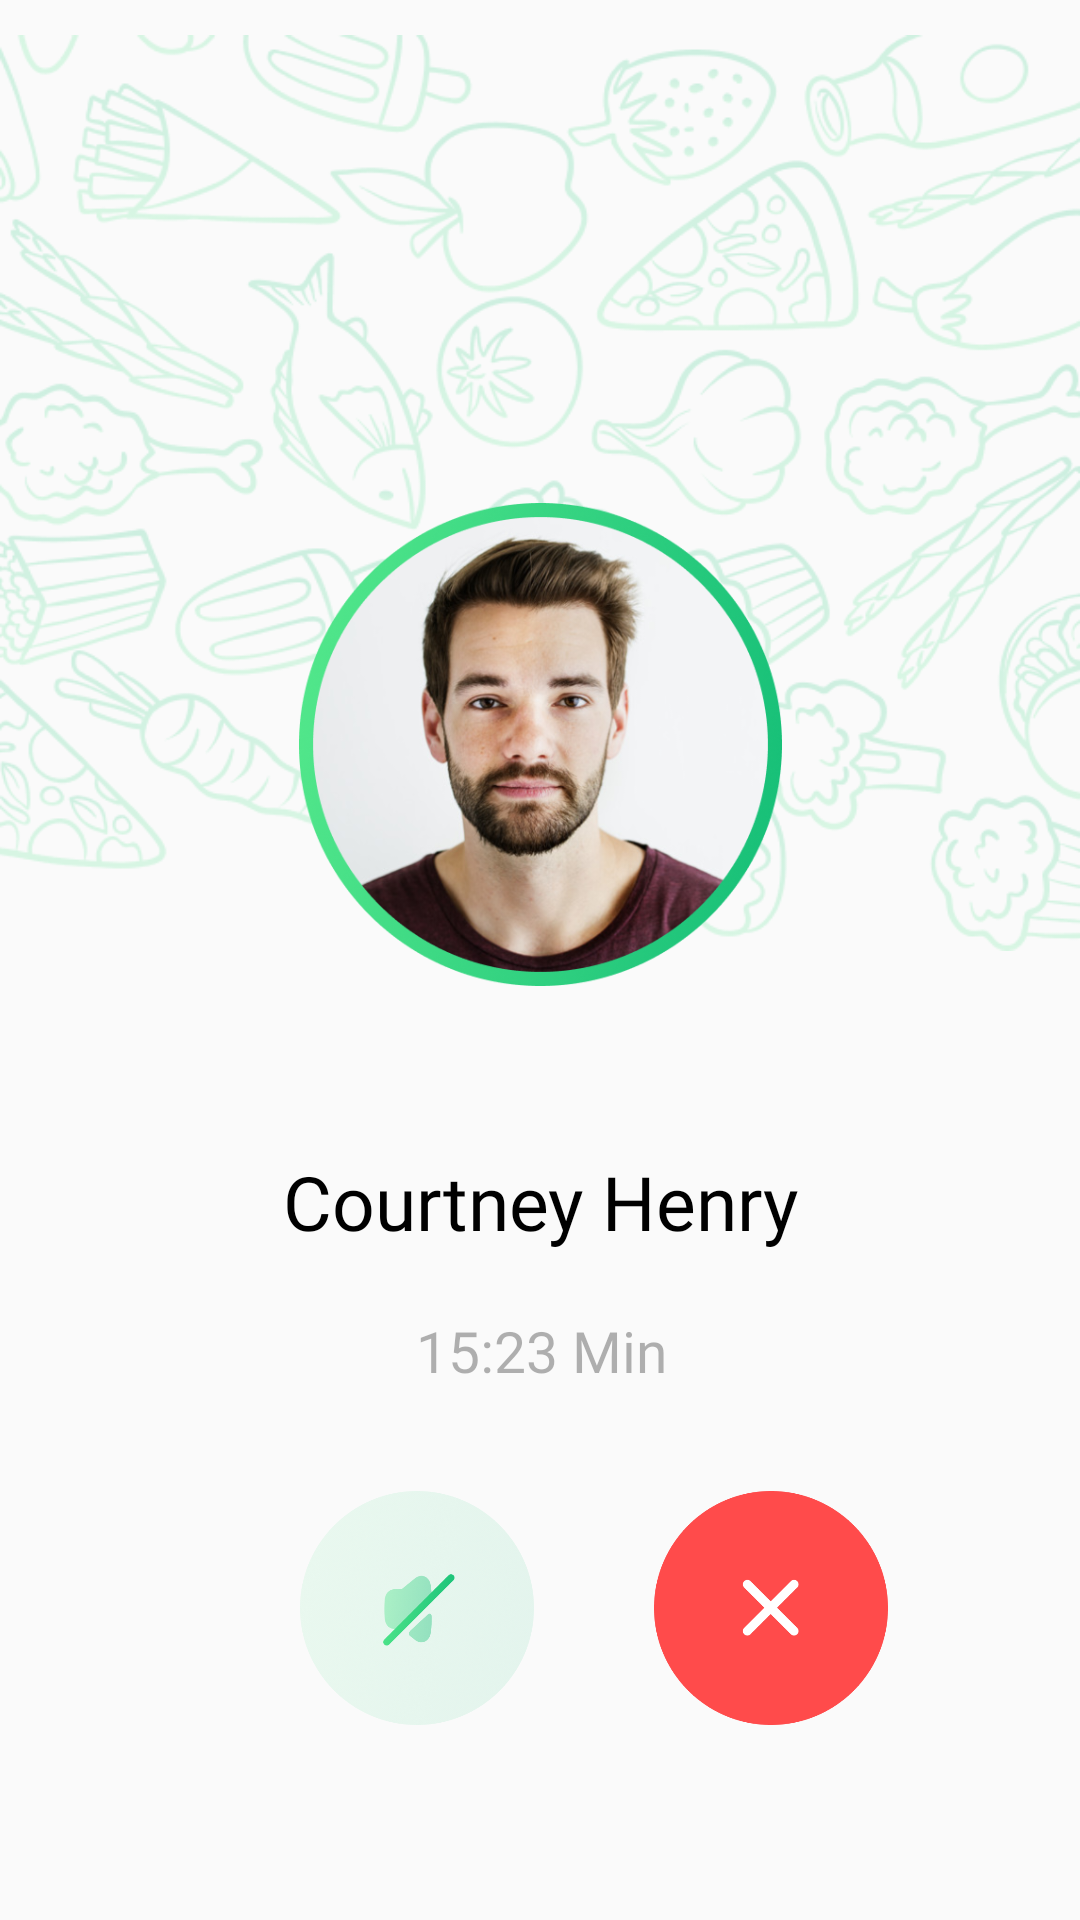

Named icons in this screenshot (1080 x 1920) and their bounding boxes, (x1, y1, x2, y2):
closeicon: (654, 1491, 888, 1725)
muteicon: (383, 1574, 455, 1646)
